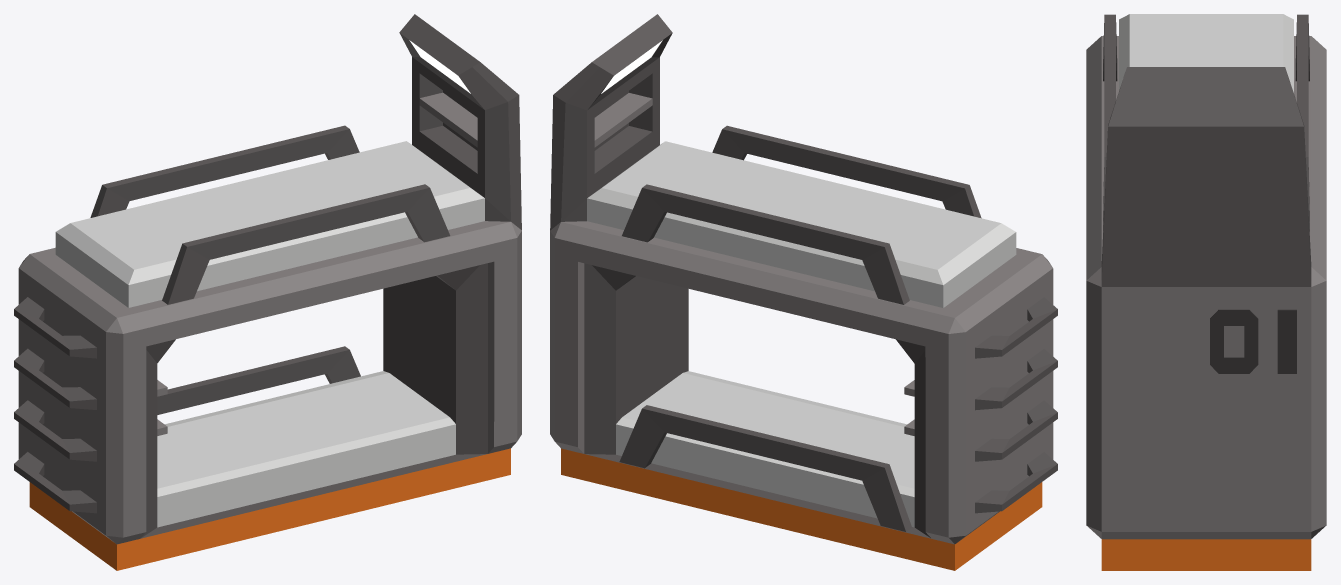
Rendered from scifi-scifi-bunkbed.glb.
3 views of the same model, side by side, from view 1: azimuth 30°, elevation 25°; view 2: azimuth 150°, elevation 25°; view 3: azimuth 270°, elevation 25° (orthographic). The views are drawn at different scales.
Parts seen in each view (by area): view 1: scifi-bunkbed; view 2: scifi-bunkbed; view 3: scifi-bunkbed.
Part boxes in pixels (left/top/right/bottom): scifi-bunkbed: left=14, top=14, right=521, bottom=570; scifi-bunkbed: left=550, top=14, right=1057, bottom=570; scifi-bunkbed: left=1086, top=14, right=1326, bottom=570.
Size of the model in its own units: 3.21 by 2.87 by 1.27.
